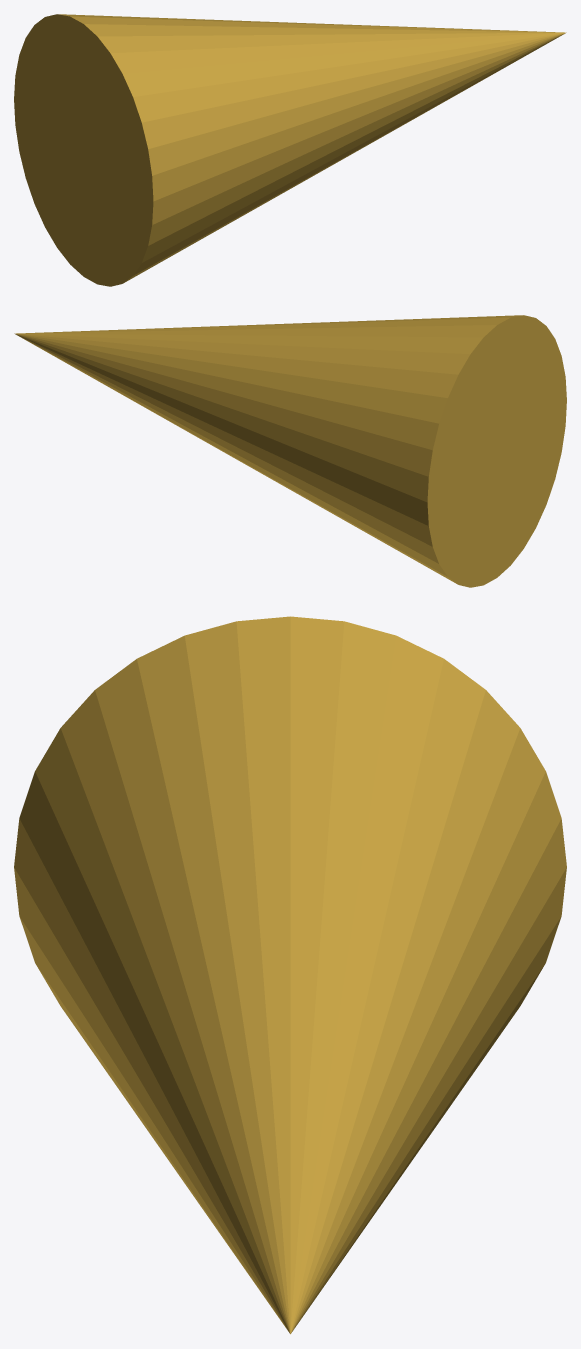
File: Trireme_Ram.fbx
3 renders of one model, top to bottom at view 1: azimuth 30°, elevation 25°; view 2: azimuth 150°, elevation 25°; view 3: azimuth 270°, elevation 25°, orthographic. The views are drawn at different scales.
Parts seen in each view (by area): view 1: Trireme_Ram; view 2: Trireme_Ram; view 3: Trireme_Ram.
Part boxes in pixels (bbox=[...]): Trireme_Ram: bbox=[14, 14, 566, 286]; Trireme_Ram: bbox=[14, 315, 566, 587]; Trireme_Ram: bbox=[14, 616, 566, 1334].
Size of the model in its own units: 2 by 1 by 1.
